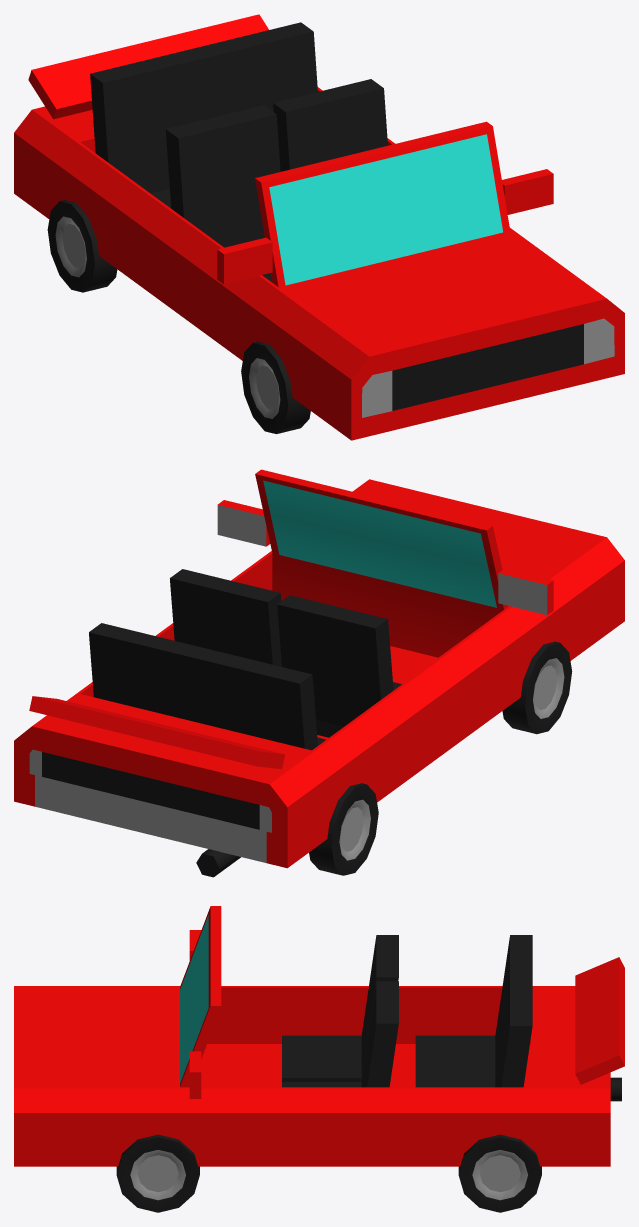
File: M_Vehicle_CarA.FBX
The picture shows the model from 3 angles, top to bottom: view 1: azimuth 30°, elevation 25°; view 2: azimuth 150°, elevation 25°; view 3: azimuth 270°, elevation 25°; orthographic projection. The views are drawn at different scales.
Visible parts, largest first — view 1: Vehicle_Car_A; view 2: Vehicle_Car_A; view 3: Vehicle_Car_A.
Boxes of the visible parts, x1,y1,x2,y2 form: Vehicle_Car_A: (14,14,624,440); Vehicle_Car_A: (14,469,624,877); Vehicle_Car_A: (14,906,624,1212).
Bounding box in the file's own units: 259 × 166 × 470.
